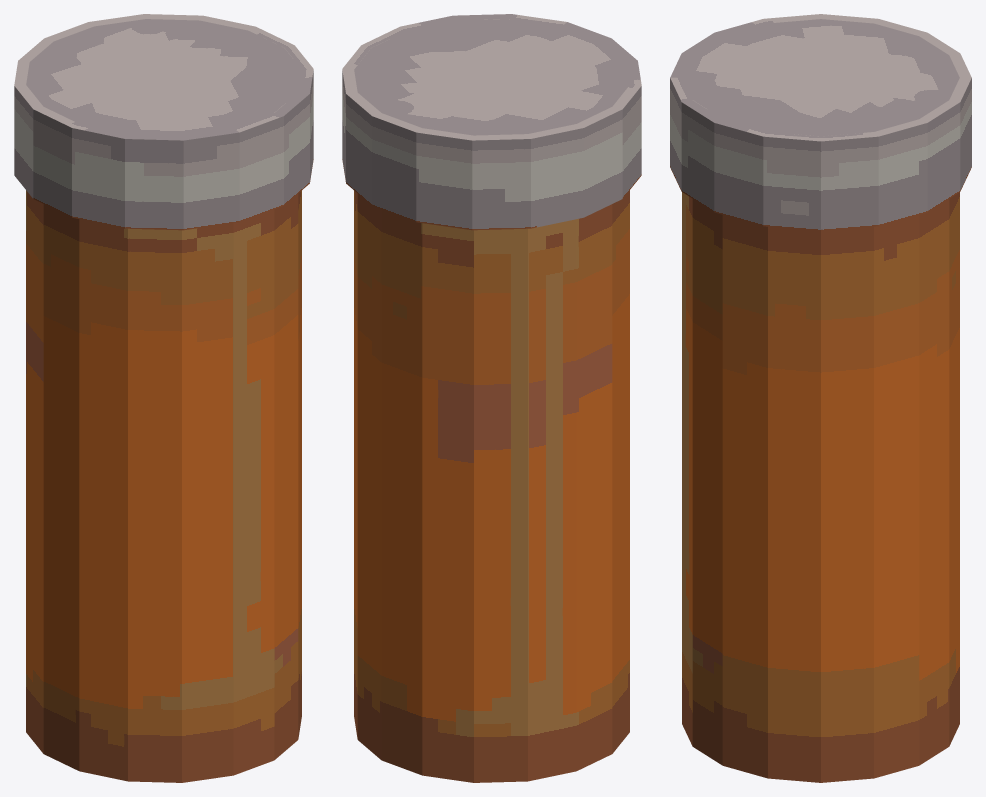
File: Medication1.2.fbx
3 renders of one model, left to right at view 1: azimuth 30°, elevation 25°; view 2: azimuth 150°, elevation 25°; view 3: azimuth 270°, elevation 25°, orthographic.
Parts seen in each view (by area): view 1: Cylinder.001; view 2: Cylinder.001; view 3: Cylinder.001.
Part boxes in pixels (bbox=[...]): Cylinder.001: bbox=[14, 14, 313, 782]; Cylinder.001: bbox=[342, 14, 641, 782]; Cylinder.001: bbox=[670, 14, 971, 782].
Size of the model in its own units: 136 by 322 by 136.
1 material, 1 textured.
